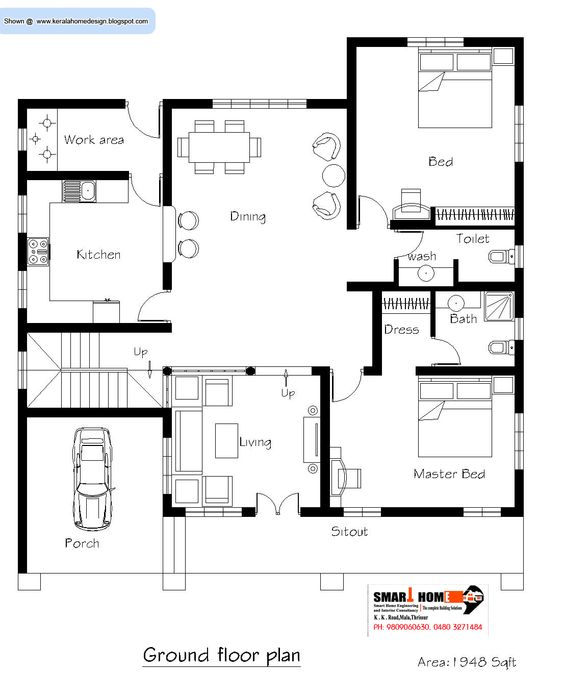door: (125, 108, 162, 141), (126, 174, 163, 207), (132, 288, 169, 321), (354, 191, 391, 224), (393, 228, 430, 261), (328, 371, 365, 404), (433, 332, 470, 365), (254, 490, 299, 511)
room: (345, 35, 522, 228), (319, 364, 523, 516), (17, 169, 171, 333), (162, 367, 330, 516), (392, 224, 524, 290), (428, 286, 525, 374)
window: (212, 97, 308, 108), (406, 35, 464, 47), (513, 411, 524, 470), (513, 103, 524, 162), (160, 436, 171, 494), (184, 506, 242, 516), (16, 193, 27, 233), (15, 268, 26, 308), (15, 349, 26, 389), (342, 506, 381, 517), (461, 506, 500, 517), (513, 243, 525, 268), (512, 315, 524, 340), (17, 128, 28, 151)
